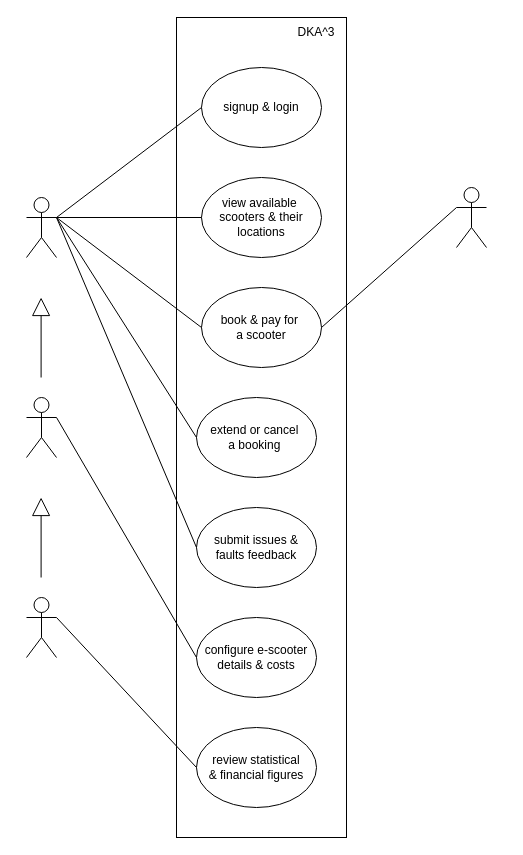
Image size: 523x855. Some labels were removed from this diagram. The centre of each missing label's shape, as x and y in pixels:
customer: pixel 41 227
manager: pixel 41 627
staff: pixel 41 427
Stripe <<System>>: pixel 471 217
